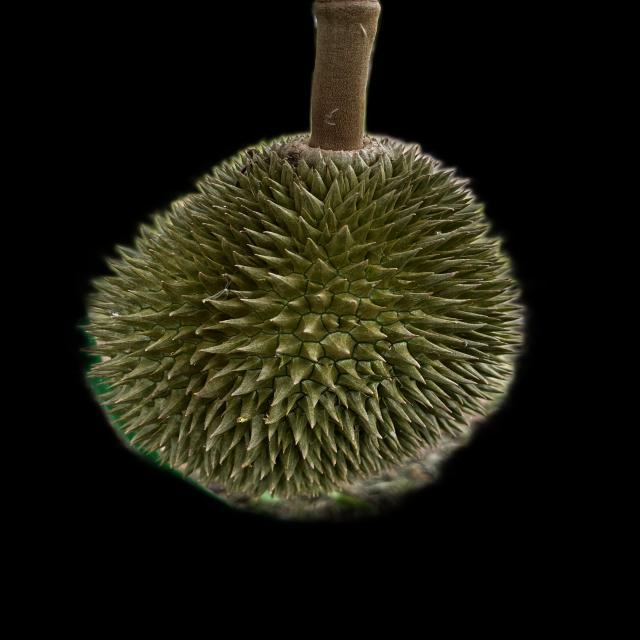immature: (89, 137, 528, 505)
